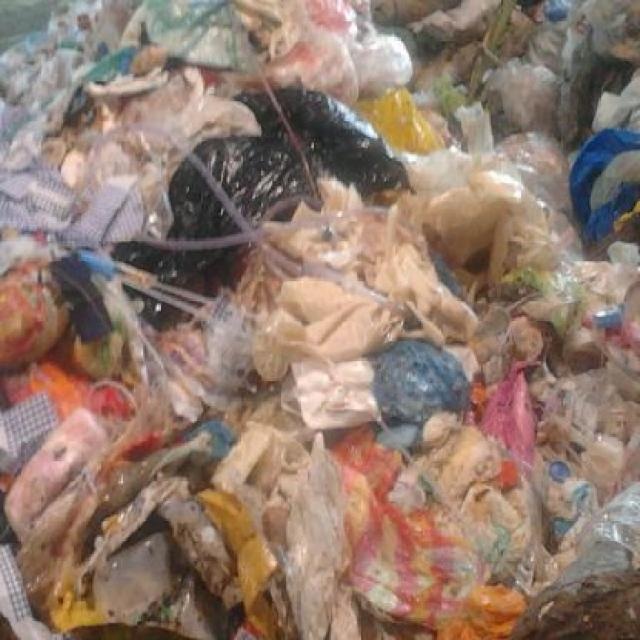garbage: (12, 12, 633, 624)
